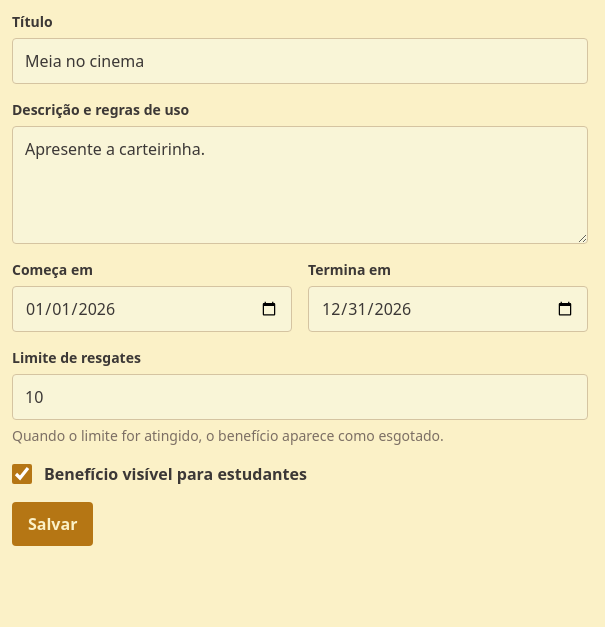
BeneficioForm › mostra o erro da API e libera o botão para tentar de novo
Click the button "Salvar" at (53, 524), box [12,502,93,546]
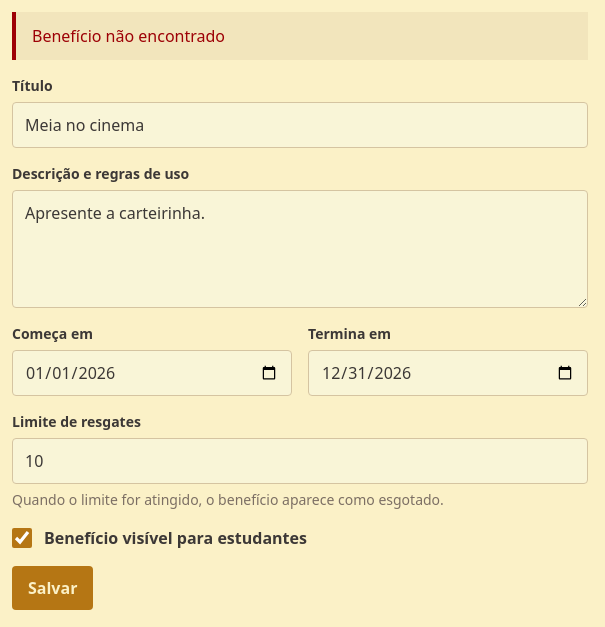
Expected: the button "Salvar" is enabled, [12,566,93,610]
Now the message reads "Benefício não encontrado", box [32,25,225,47]
